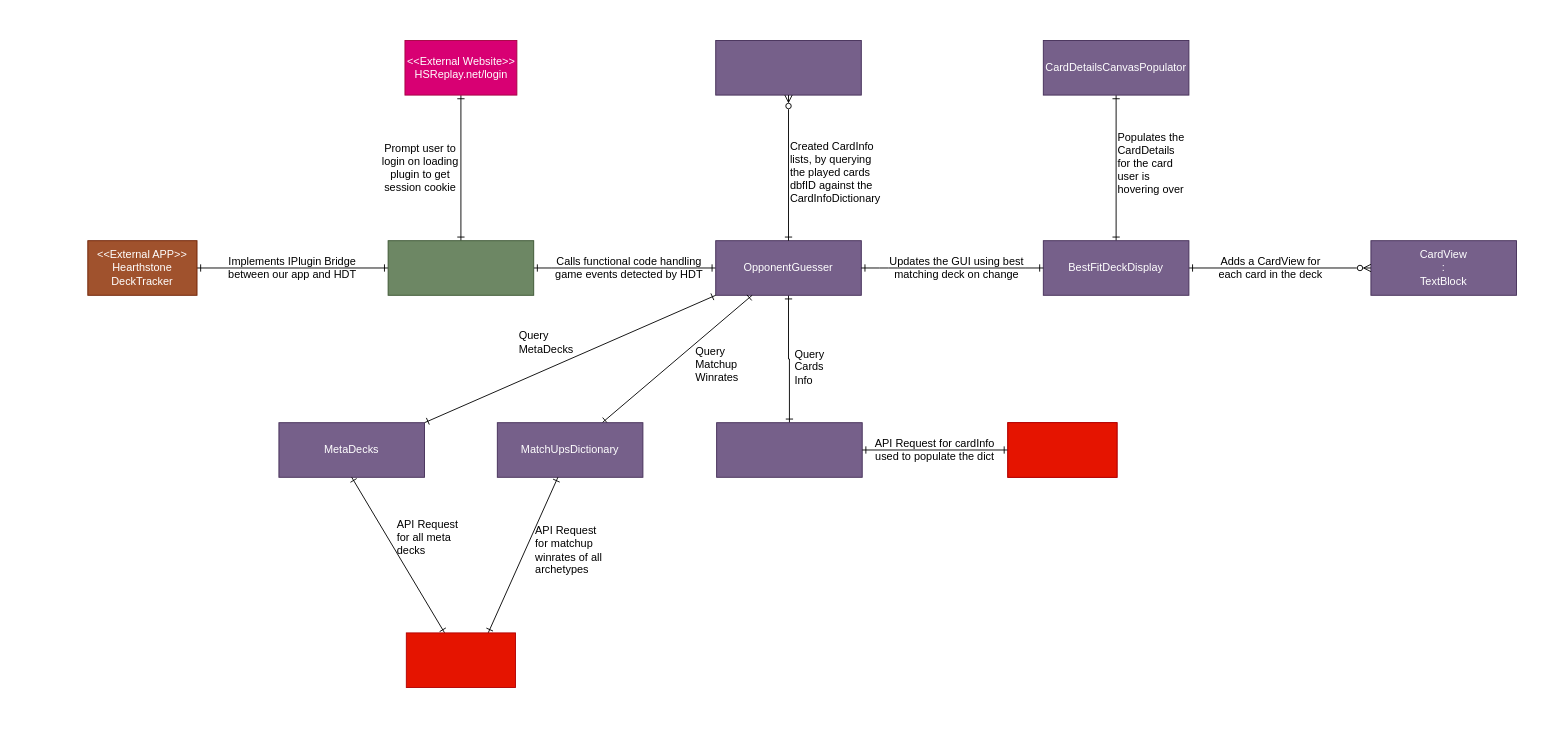
The diagram is 1564 pixels wide and 743 high, and some of its shapes have lost their labels. The shapes that lost their labels are listed below. From the top down, each one's centre as x and y in pixels, then its label:
At [788,67]: "CardInfo".
At [460,267]: "OpponentGuesserPlugin : IPlugin".
At [789,449]: "CardInfoDictionary".
At [1062,449]: "<<External API>> HearthstoneJson".
At [460,660]: "<<External API>> HSReplay".
